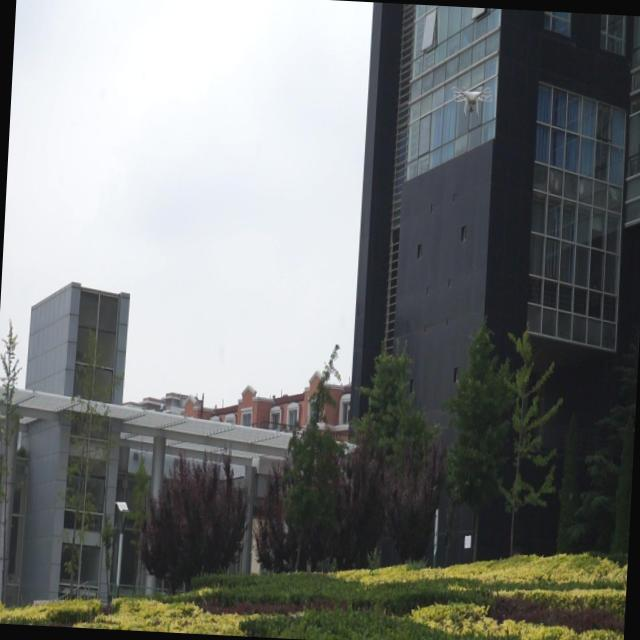drone: (452, 82, 492, 123)
